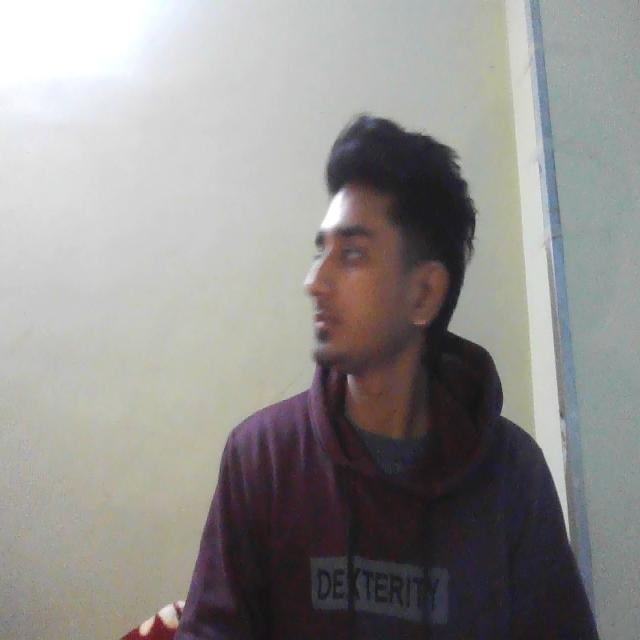real: (303, 136, 430, 376)
